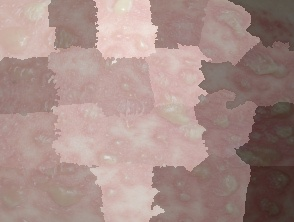SJS-TEN: (8, 5, 290, 222)
